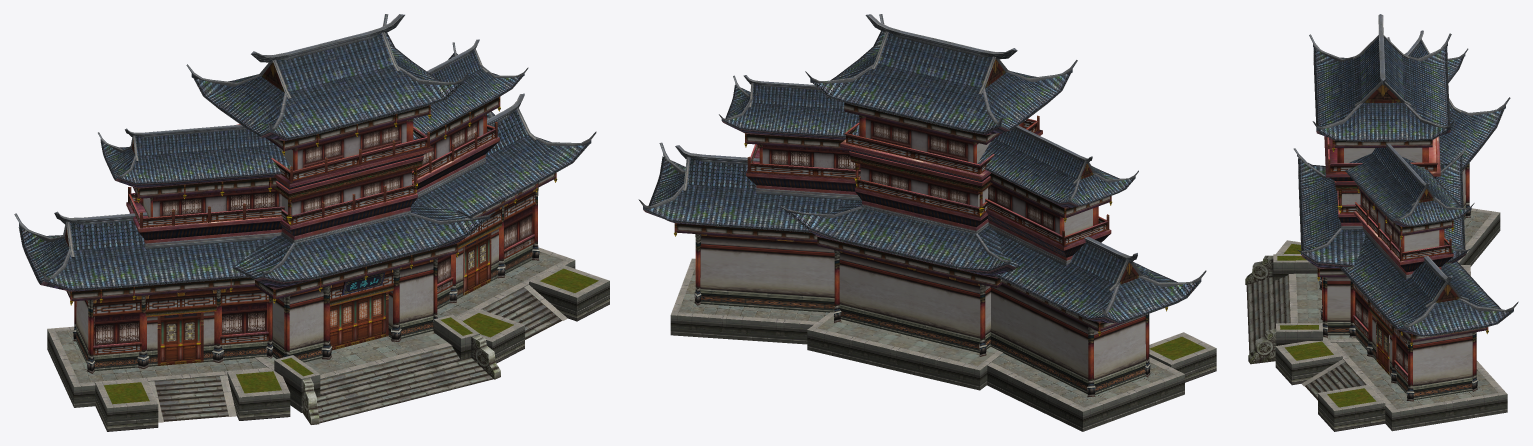
File: Maincity06_Building_ghg_LOD1.FBX
The picture shows the model from 3 angles, left to right: view 1: azimuth 30°, elevation 25°; view 2: azimuth 150°, elevation 25°; view 3: azimuth 270°, elevation 25°; orthographic projection. The views are drawn at different scales.
Parts seen in each view (by area): view 1: Maincity06_Building_ghg_02_LOD1, Maincity06_Building_ghg_01_LOD1; view 2: Maincity06_Building_ghg_02_LOD1, Maincity06_Building_ghg_01_LOD1; view 3: Maincity06_Building_ghg_02_LOD1, Maincity06_Building_ghg_01_LOD1.
Boxes of the visible parts, box(x1,y1,x2,y2) form: Maincity06_Building_ghg_02_LOD1: box(18, 33, 609, 431); Maincity06_Building_ghg_01_LOD1: box(14, 14, 596, 424); Maincity06_Building_ghg_02_LOD1: box(643, 31, 1216, 431); Maincity06_Building_ghg_01_LOD1: box(638, 14, 1206, 397); Maincity06_Building_ghg_02_LOD1: box(1246, 37, 1512, 431); Maincity06_Building_ghg_01_LOD1: box(1245, 14, 1518, 401).
Size of the model in its own units: 3730 by 1990 by 1788.
